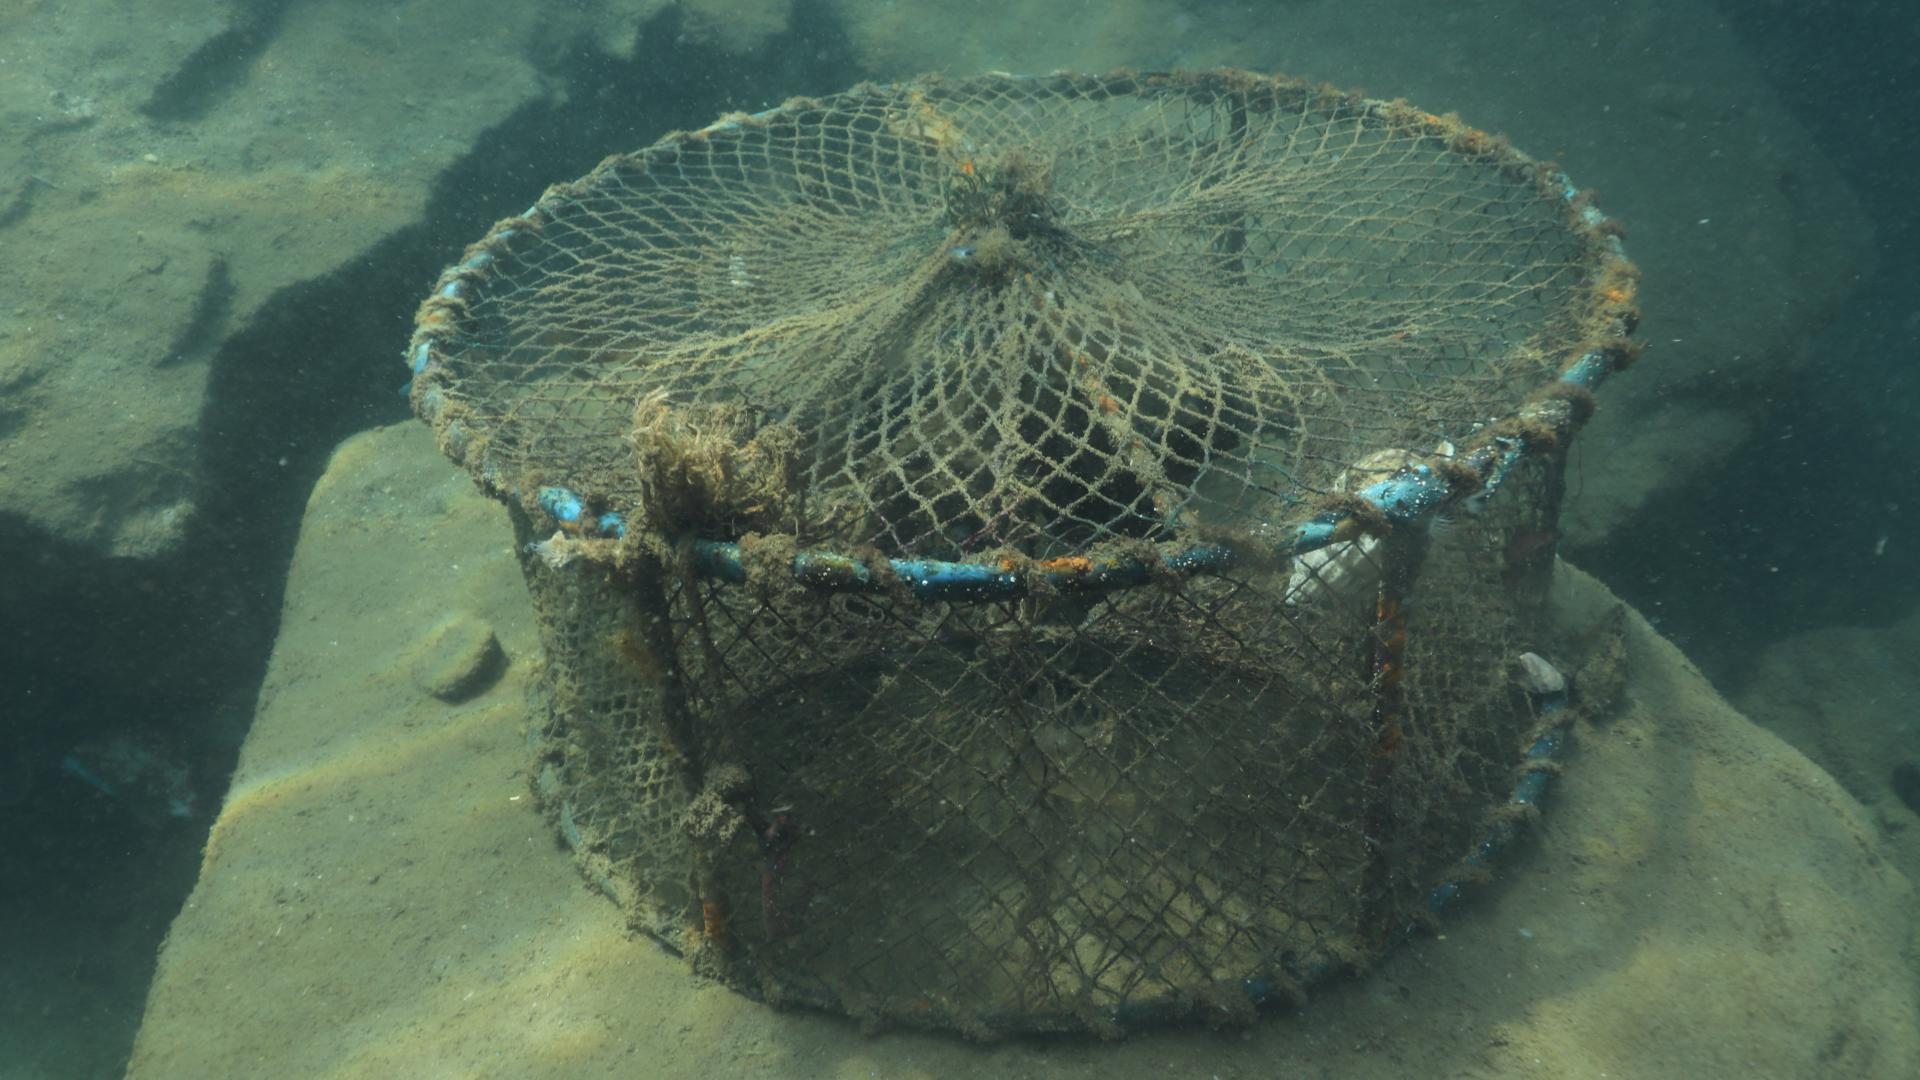circular fish trap: (404, 62, 1640, 1042)
